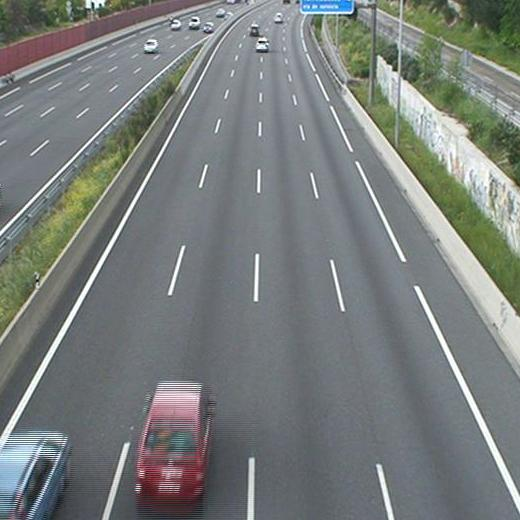car: (135, 381, 212, 507), (255, 37, 270, 53), (249, 23, 260, 38), (274, 13, 283, 24)
